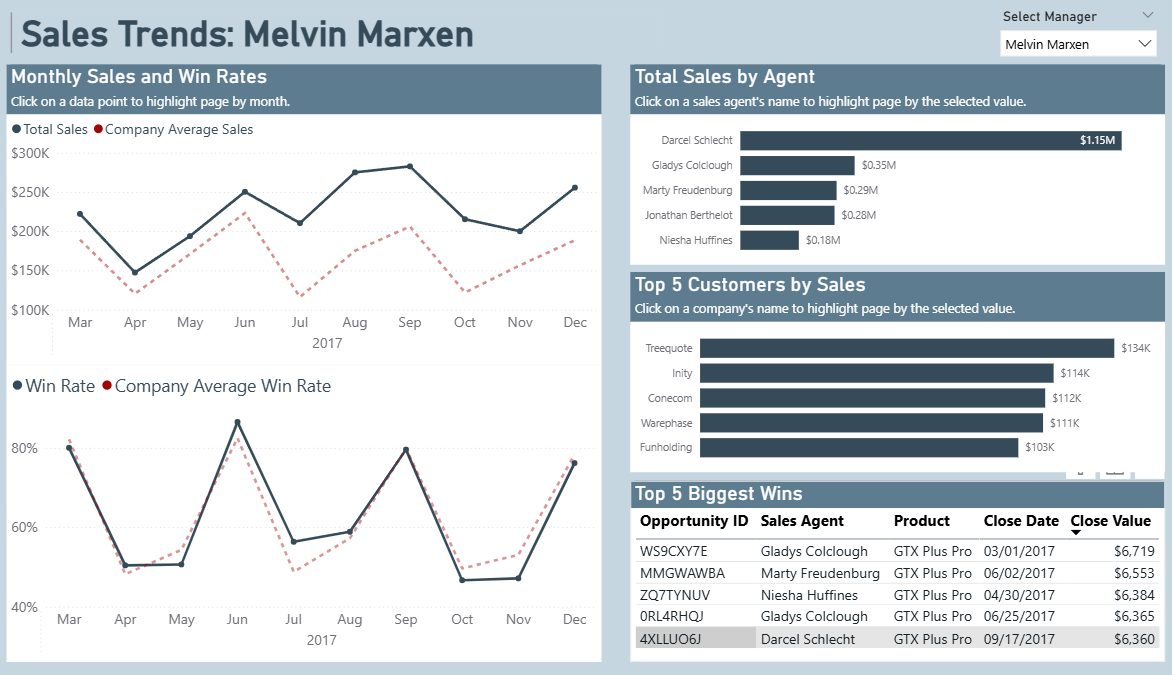

The page's visual inventory and layout, read from the dashboard file:
{"tool":"powerbi","page":{"name":"Sales Trends","canvas":[1350,800],"ordinal":2},"visuals":[{"type":"slicer","fields":{"Values":["sales_agents.manager"]},"box":[1140,14.3,198.6,74.3],"z":0},{"type":"multiRowCard","fields":{"Values":["sales_pipeline.Title_Metrics_Sales_OT"]},"box":[14.3,18.6,751.4,64.3],"z":1000},{"type":"lineChart","title":"Monthly Sales and Win Rates","fields":{"Y":["sales_pipeline.close_value","sales_pipeline.Company Average Sale Amt"],"Category":["calendar.Date Hierarchy.year","calendar.Date Hierarchy.Month Name"]},"box":[14.3,82.9,680,342.9],"z":2000},{"type":"lineChart","title":"Monthly Sales","fields":{"Y":["sales_pipeline.Win Rate","sales_pipeline.Company Average Win Rate"],"Category":["calendar.Date Hierarchy.year","calendar.Date Hierarchy.Month Name"]},"box":[14.3,425.7,680,340],"z":3000},{"type":"barChart","title":"Total Sales by Agent","fields":{"Category":["sales_pipeline.sales_agent"],"Y":["sales_pipeline.Total Sales"]},"box":[727.1,82.9,611.4,228.6],"z":4000},{"type":"tableEx","title":"Top 5 Biggest Wins","fields":{"Values":["sales_pipeline.opportunity_id","sales_pipeline.sales_agent","sales_pipeline.product","sales_pipeline.close_date","sales_pipeline.close_value"]},"box":[727.1,558.6,611.4,207.1],"z":5000},{"type":"barChart","title":"Top 5 Customers by Sales","fields":{"Y":["sales_pipeline.Total Sales"],"Category":["accounts.account"]},"box":[727.1,320,611.4,228.6],"z":5001}]}

Visuals, with their boxes in screenshot pixels (x1, y1, x2, y2), scaled from the page's 1350x800 canvas onto the 1172x675 screenshot:
slicer - sales_agents.manager: bbox=[990, 12, 1162, 75]
multiRowCard - sales_pipeline.Title_Metrics_Sales_OT: bbox=[12, 16, 665, 70]
"Monthly Sales and Win Rates" lineChart: bbox=[12, 70, 603, 359]
"Monthly Sales" lineChart: bbox=[12, 359, 603, 646]
"Total Sales by Agent" barChart: bbox=[631, 70, 1162, 263]
"Top 5 Biggest Wins" tableEx: bbox=[631, 471, 1162, 646]
"Top 5 Customers by Sales" barChart: bbox=[631, 270, 1162, 463]
